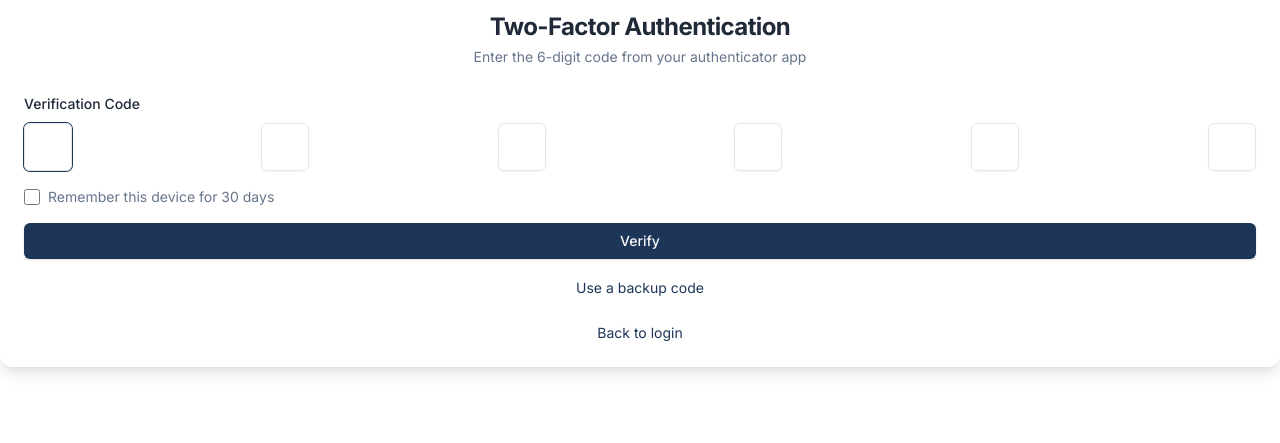
it: VerifyMfaPage › should show error for empty backup code
Click the button "Use a backup code" at point(640, 288), box [576,278,704,298]
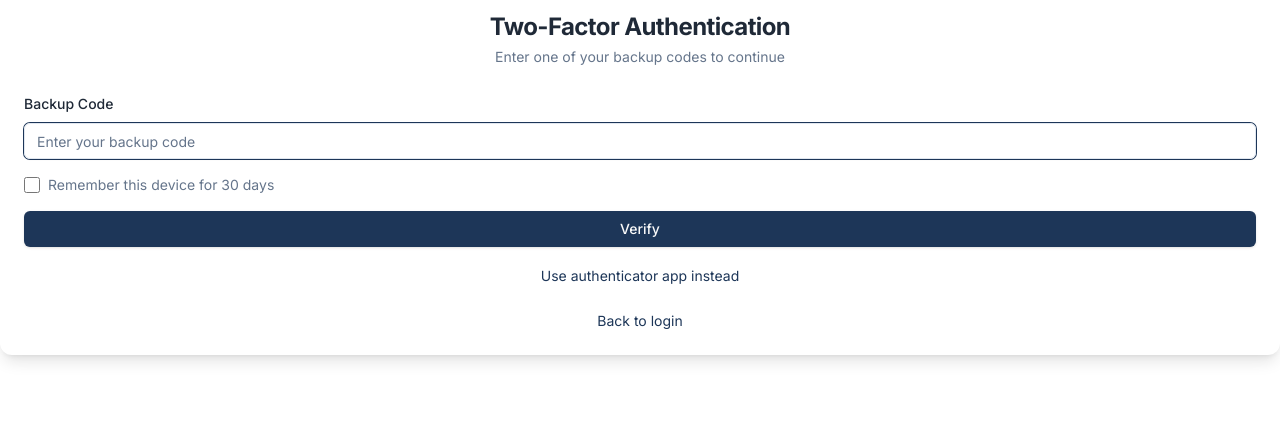
Click the button "Verify" at point(640, 229), box [24,211,1256,247]
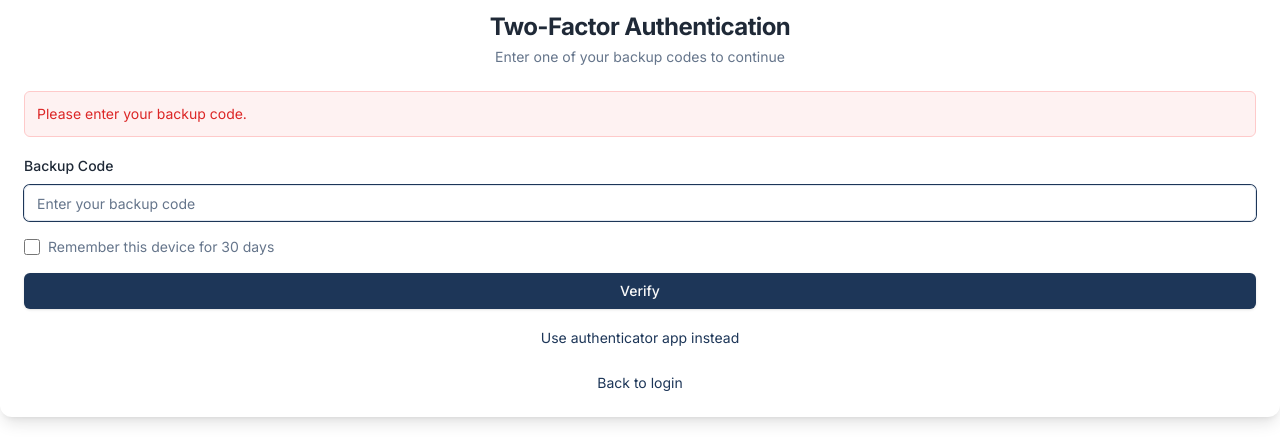
Expected: the text "Please enter your backup code." is shown, [24,91,1256,137]
